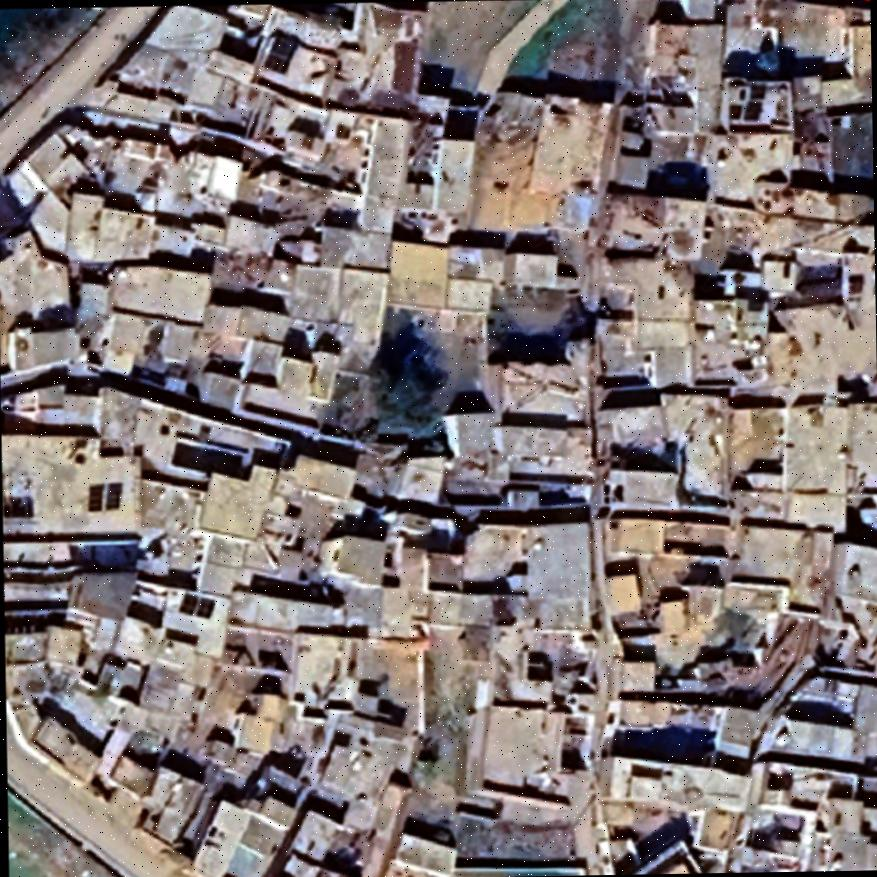Solarpanel: (252, 27, 302, 76), (172, 585, 220, 624), (82, 476, 126, 514), (722, 79, 764, 117)
